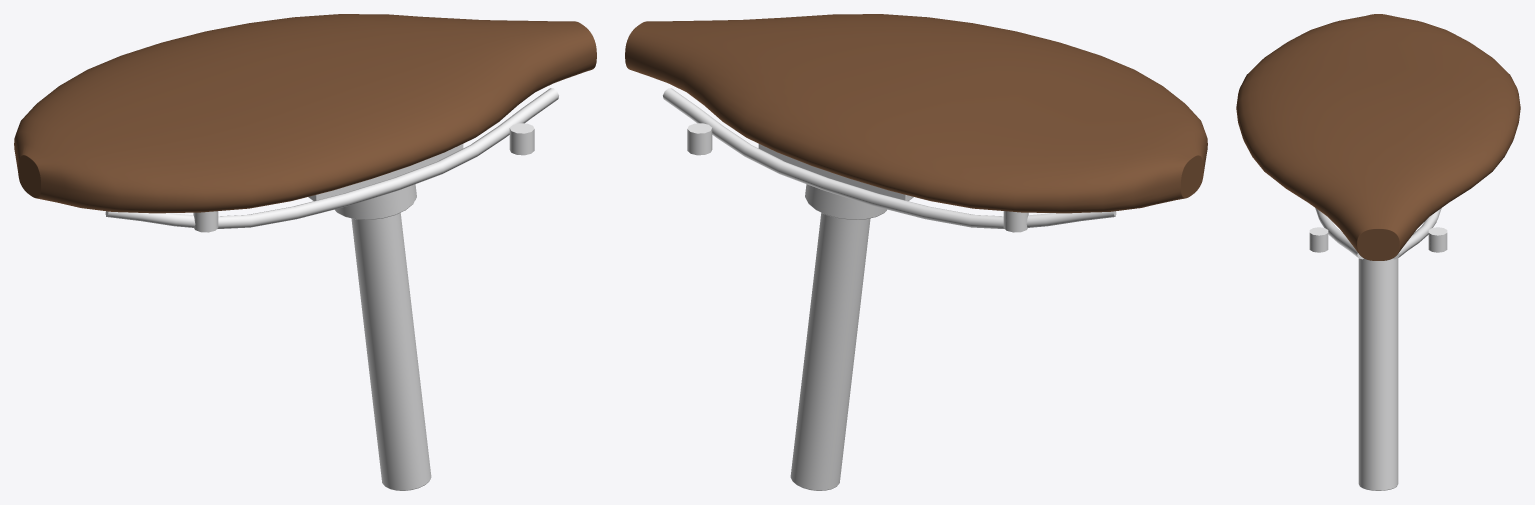
File: bike_pioneer__seat.glb
The picture shows the model from 3 angles, left to right: view 1: azimuth 30°, elevation 25°; view 2: azimuth 150°, elevation 25°; view 3: azimuth 270°, elevation 25°; orthographic projection. The views are drawn at different scales.
Visible parts, largest first — view 1: frame_body__saddle, frame_body__seat_post, frame_body__saddle__rails, frame_body__saddle__springs; view 2: frame_body__saddle, frame_body__seat_post, frame_body__saddle__rails, frame_body__saddle__springs; view 3: frame_body__saddle, frame_body__seat_post, frame_body__saddle__rails, frame_body__saddle__springs.
Boxes of the visible parts, x1=… form: frame_body__saddle: x1=14, y1=14, x2=596, y2=213; frame_body__seat_post: x1=308, y1=144, x2=463, y2=490; frame_body__saddle__rails: x1=105, y1=88, x2=558, y2=228; frame_body__saddle__springs: x1=193, y1=123, x2=534, y2=232; frame_body__saddle: x1=625, y1=14, x2=1207, y2=213; frame_body__seat_post: x1=758, y1=144, x2=913, y2=490; frame_body__saddle__rails: x1=663, y1=88, x2=1116, y2=228; frame_body__saddle__springs: x1=687, y1=123, x2=1028, y2=232; frame_body__saddle: x1=1236, y1=14, x2=1520, y2=260; frame_body__seat_post: x1=1358, y1=258, x2=1398, y2=490; frame_body__saddle__rails: x1=1315, y1=208, x2=1441, y2=259; frame_body__saddle__springs: x1=1309, y1=227, x2=1447, y2=252.
Size of the model in its own units: 28 by 21.11 by 15.79.
